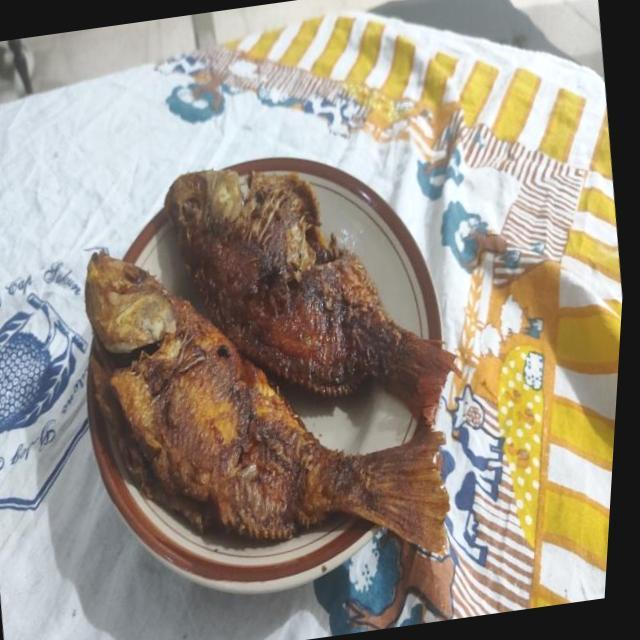ikan_mujair: (85, 250, 449, 556), (164, 168, 456, 426)
